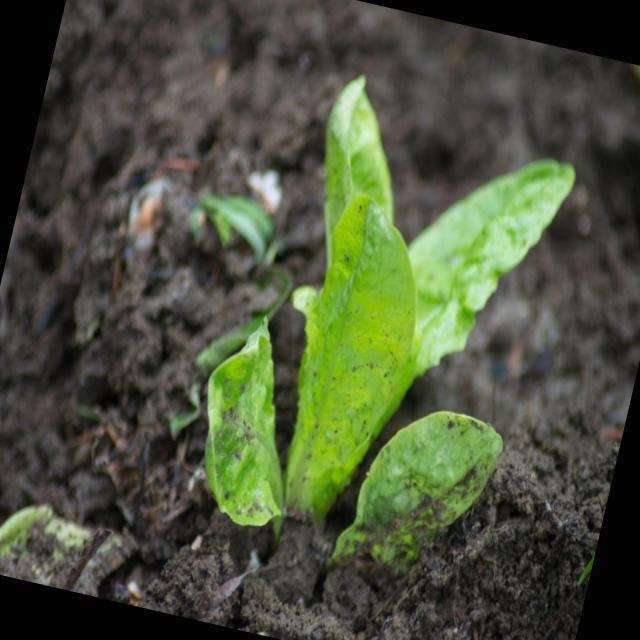verde: (205, 76, 575, 538), (330, 411, 502, 569)
